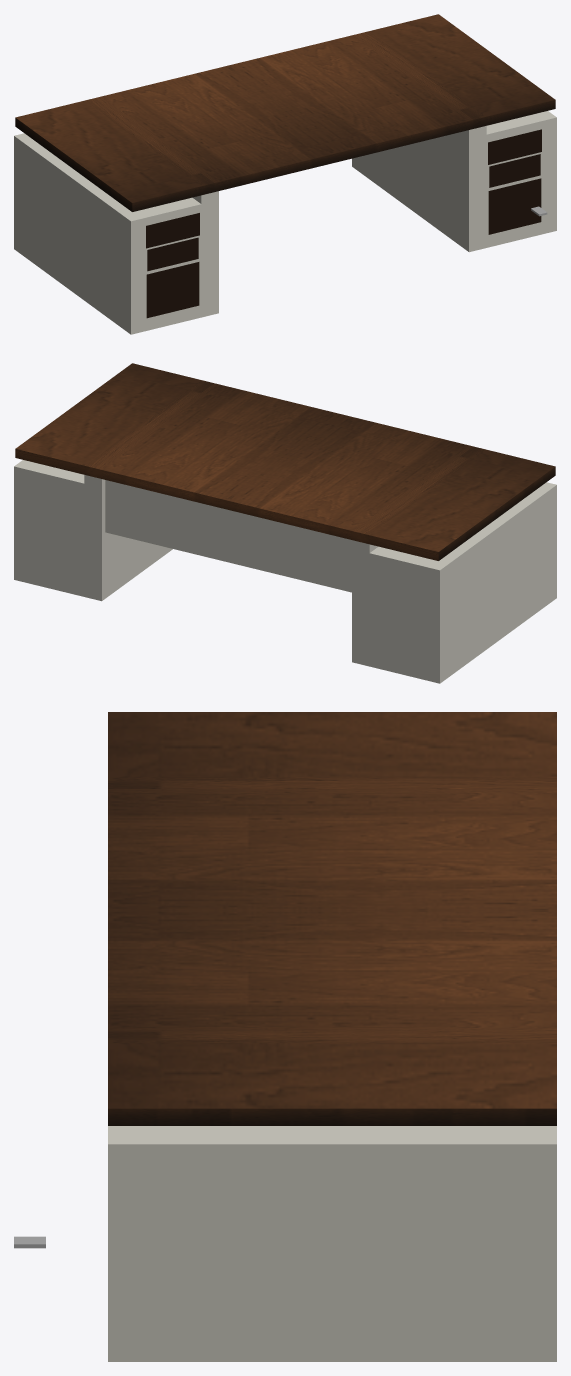
Rendered from Desk.fbx.
The picture shows the model from 3 angles, top to bottom: view 1: azimuth 30°, elevation 25°; view 2: azimuth 150°, elevation 25°; view 3: azimuth 270°, elevation 25°; orthographic projection. The views are drawn at different scales.
Visible parts, largest first — view 1: polySurface1; view 2: polySurface1; view 3: polySurface1.
Boxes of the visible parts, <box> form: polySurface1: <box>14,14,556,334</box>; polySurface1: <box>14,363,556,683</box>; polySurface1: <box>108,712,556,1361</box>.
Size of the model in its own units: 14.55 by 4.29 by 8.37.
3 materials, 1 textured.
